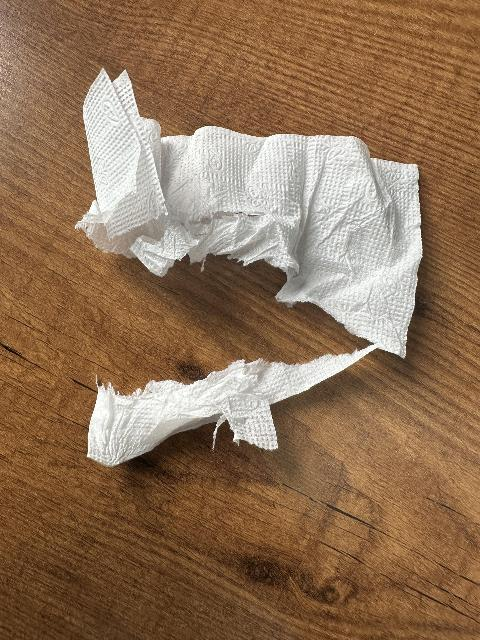Kagit: (70, 63, 437, 357), (84, 341, 383, 451)
